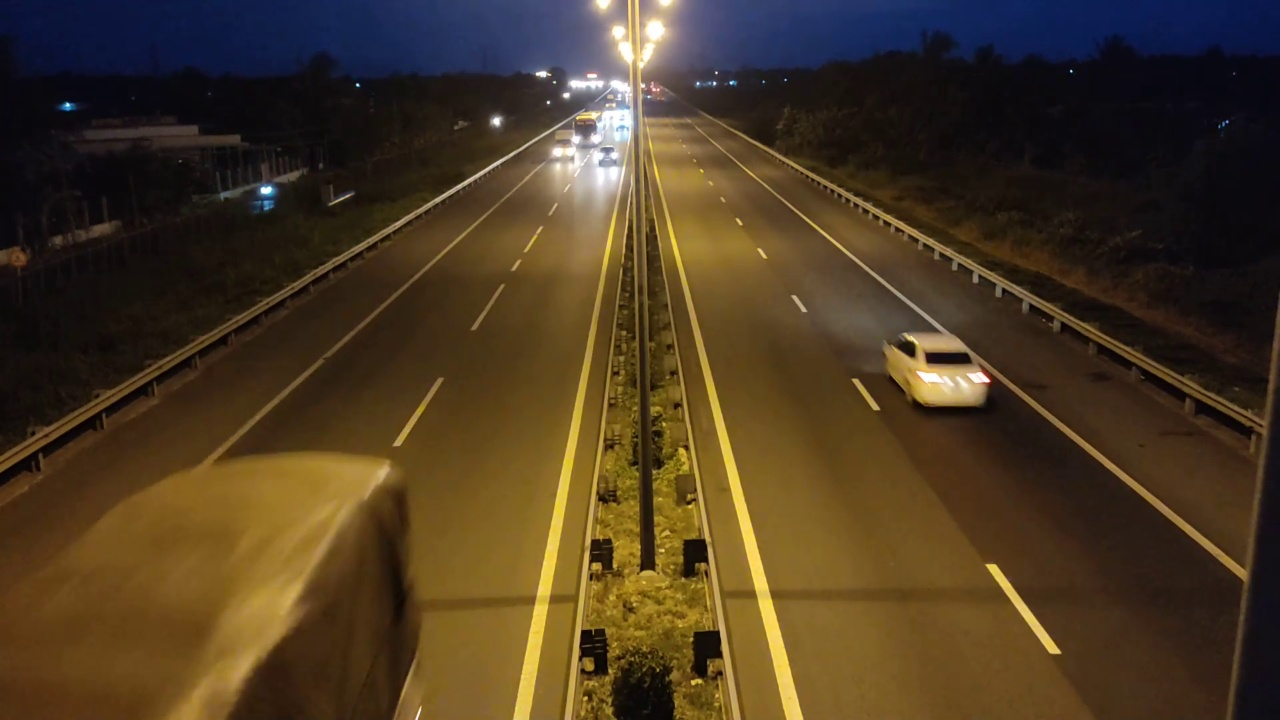car: (881, 329, 993, 409)
